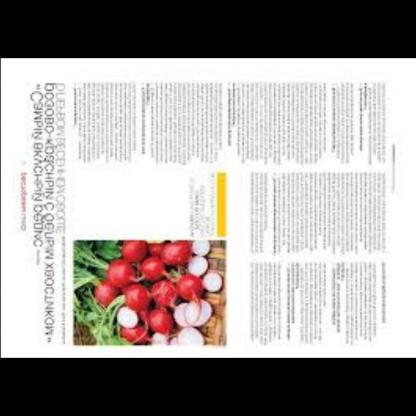rediska: (80, 235, 219, 352)
